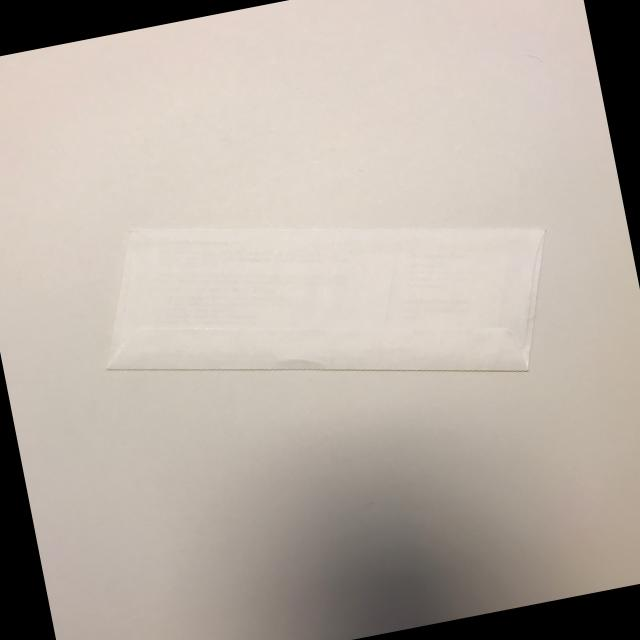paper: (80, 150, 572, 451)
